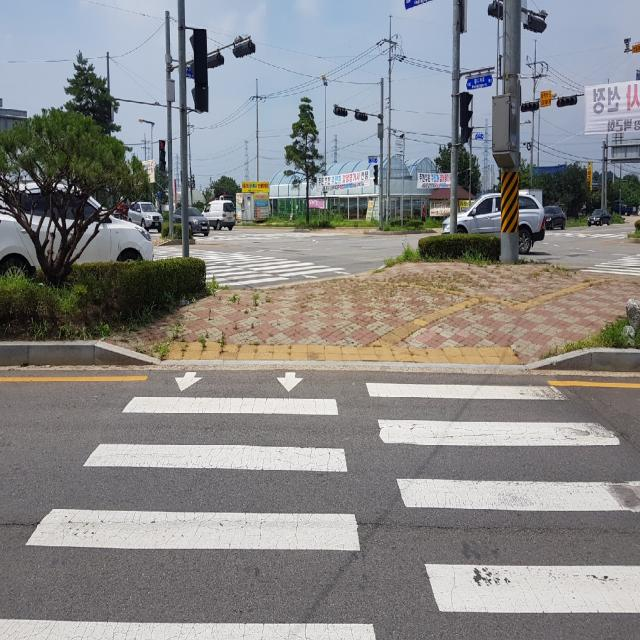횡단보도: (0, 364, 640, 640), (150, 224, 353, 286)
